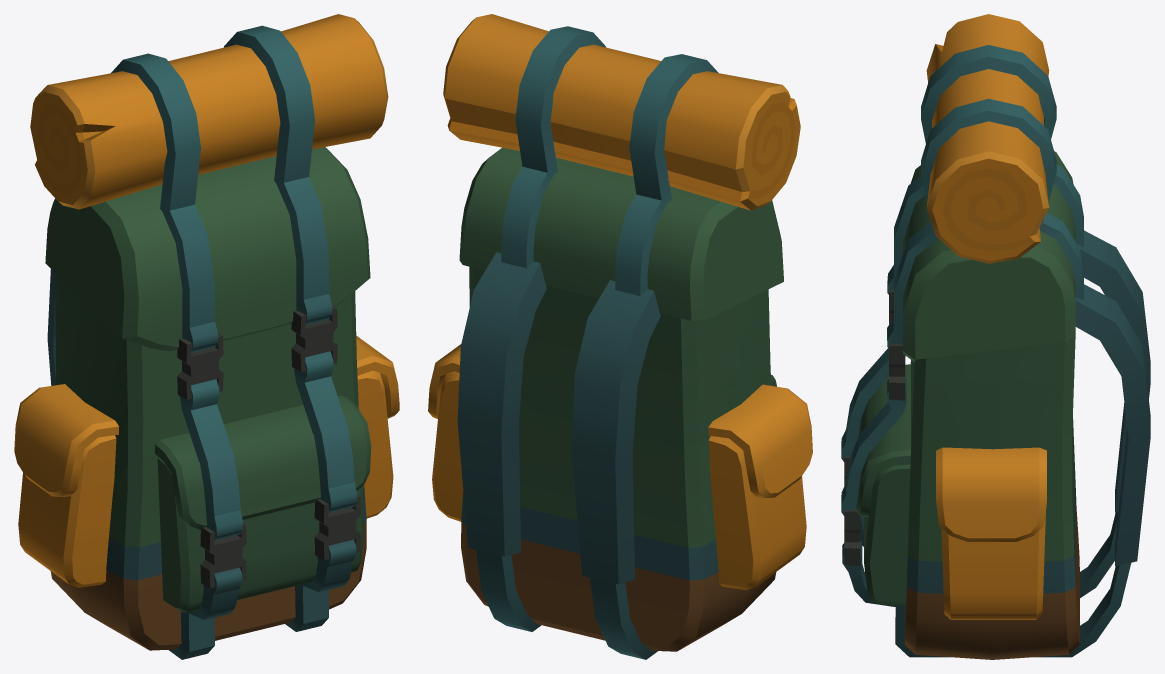
Rendered from SM_Backpack_B.fbx.
3 renders of one model, left to right at view 1: azimuth 30°, elevation 25°; view 2: azimuth 150°, elevation 25°; view 3: azimuth 270°, elevation 25°, orthographic. The views are drawn at different scales.
Parts seen in each view (by area): view 1: SM_Backpack_B; view 2: SM_Backpack_B; view 3: SM_Backpack_B.
Boxes of the visible parts, box(x1,y1,x2,y2) form: SM_Backpack_B: box(14, 14, 399, 659); SM_Backpack_B: box(428, 14, 812, 659); SM_Backpack_B: box(841, 14, 1150, 659).
Bounding box in the file's own units: 63.47 × 101 × 51.64.
